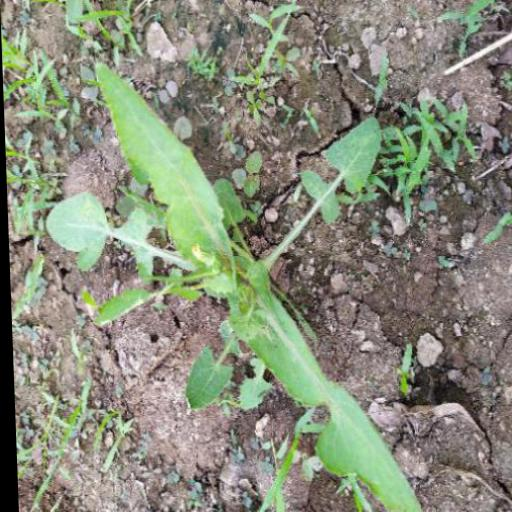weed: (4, 35, 470, 488)
